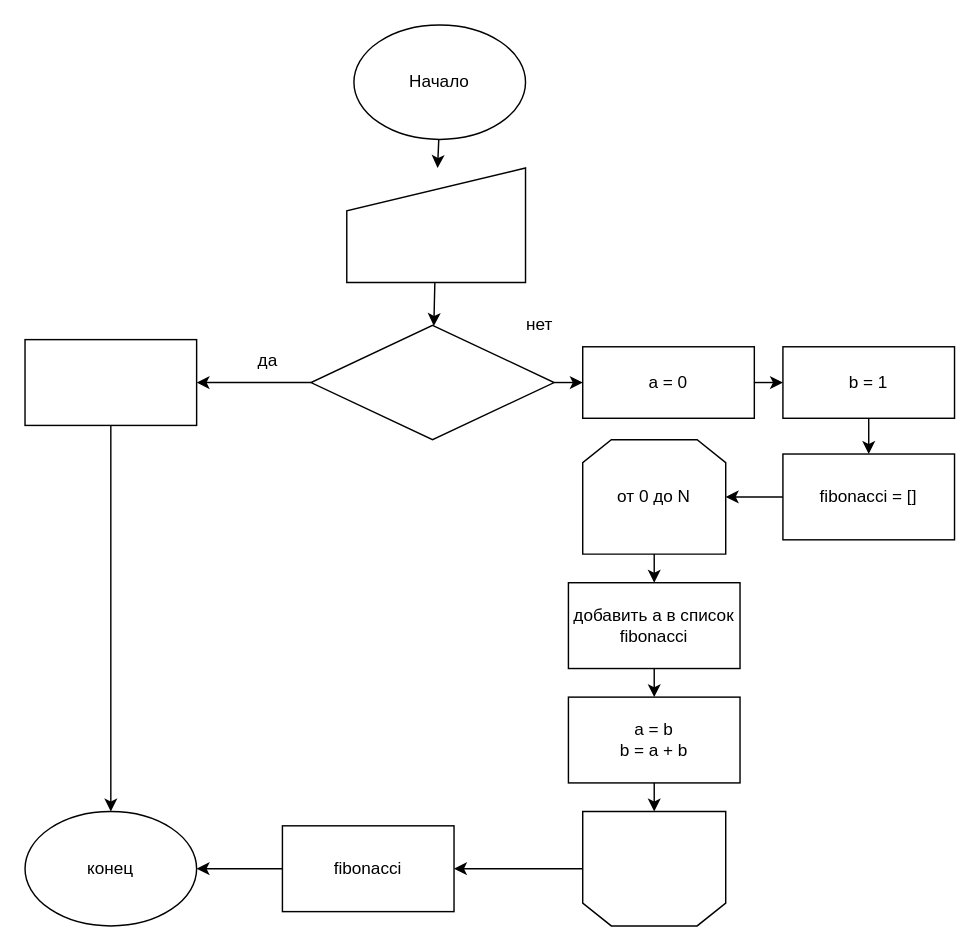
This 980x951 diagram has some shape labels left out. Here are the shapes that lost their labels. From the top down, the box of each, then its label:
(345, 167, 526, 282): Введите количество чисел N
(24, 338, 197, 425): число должно быть положительным
(310, 324, 554, 440): N <= 0
(581, 810, 726, 926): выход из цикла
